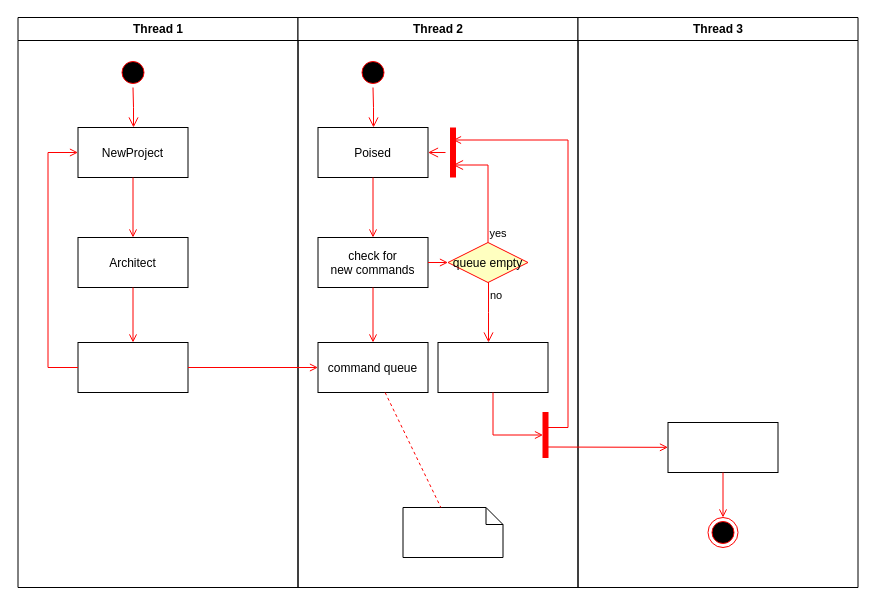
The diagram is 875 pixels wide and 605 high, and some of its shapes have lost their labels. The centre of each missing label's shape, as x and y in pixels:
"Contractor" goes at pixel 132 367.
"critical section" goes at pixel 452 532.
"dispatch command worker thread" goes at pixel 492 367.
"process command" goes at pixel 722 447.
